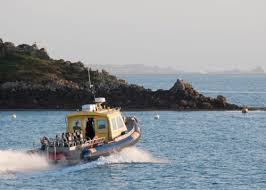boat: (29, 96, 142, 170)
